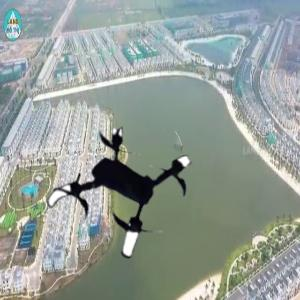drone: (45, 120, 198, 273)
